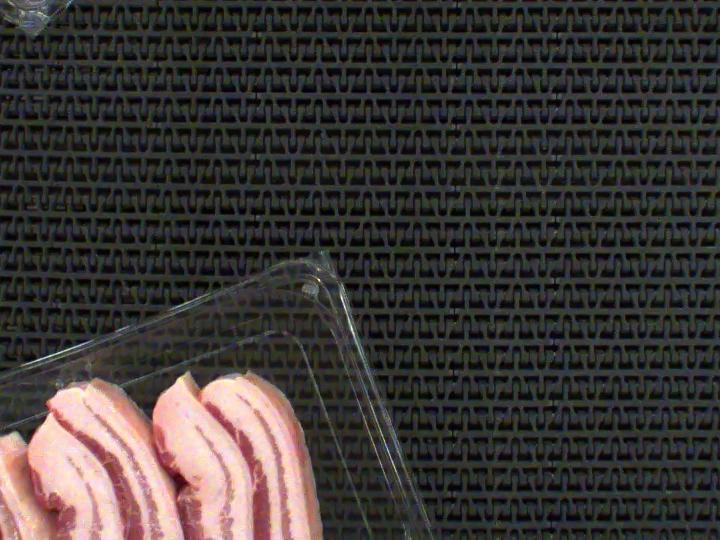packaging-error: (58, 367, 106, 389)
